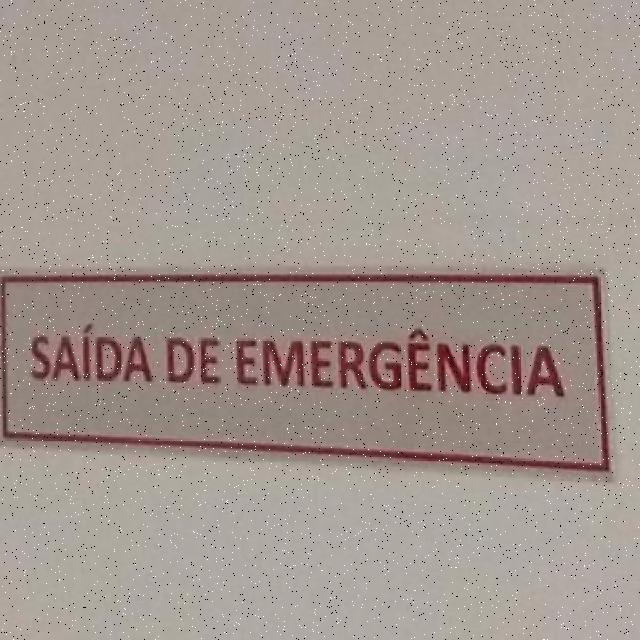emergency_exit: (1, 271, 610, 472)
